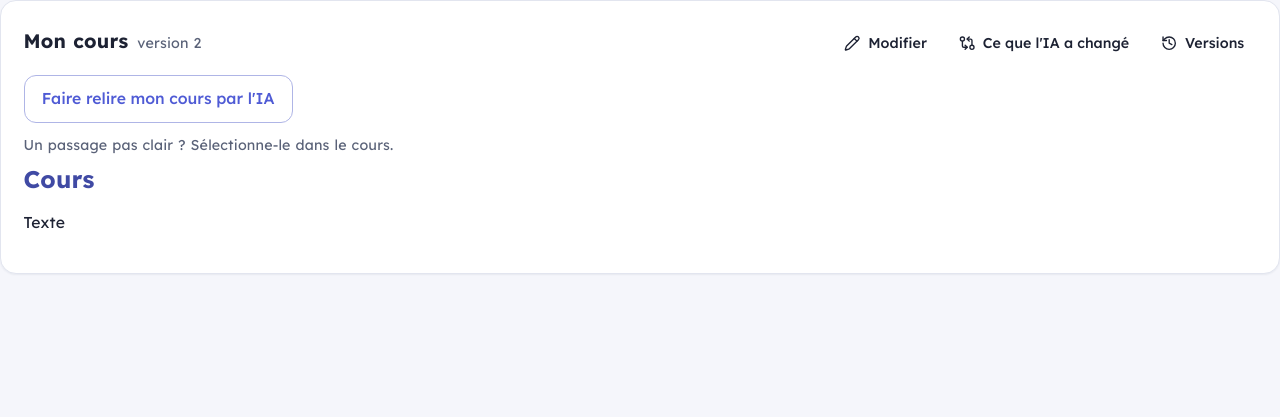
it: CoursePanel — relecture › propose de faire relire le cours, puis dit quand tout va bien
Click the button "Faire relire mon cours par l'IA" at x=158, y=99, box [24, 75, 293, 123]
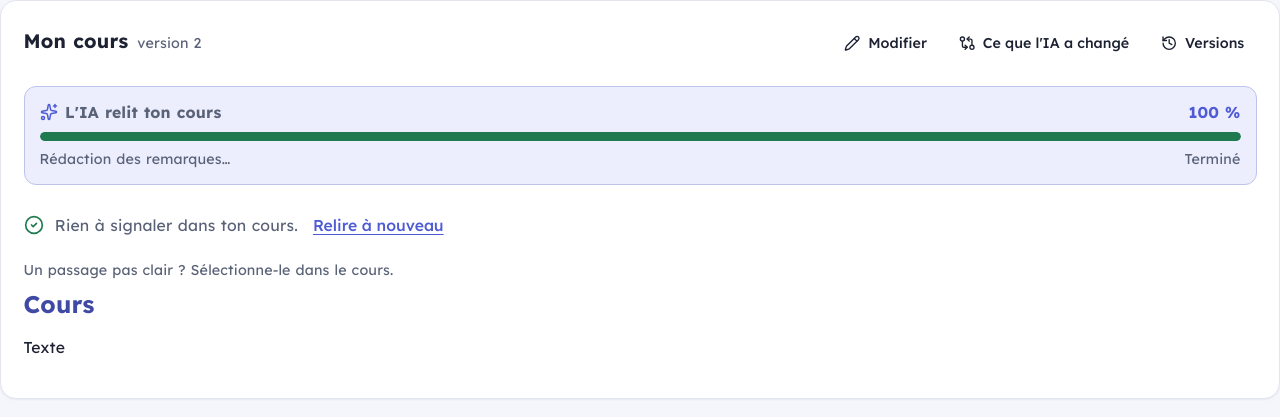
Expected: the element with class "course-review-bar" shows "Rien à signaler", [55, 215, 298, 235]
